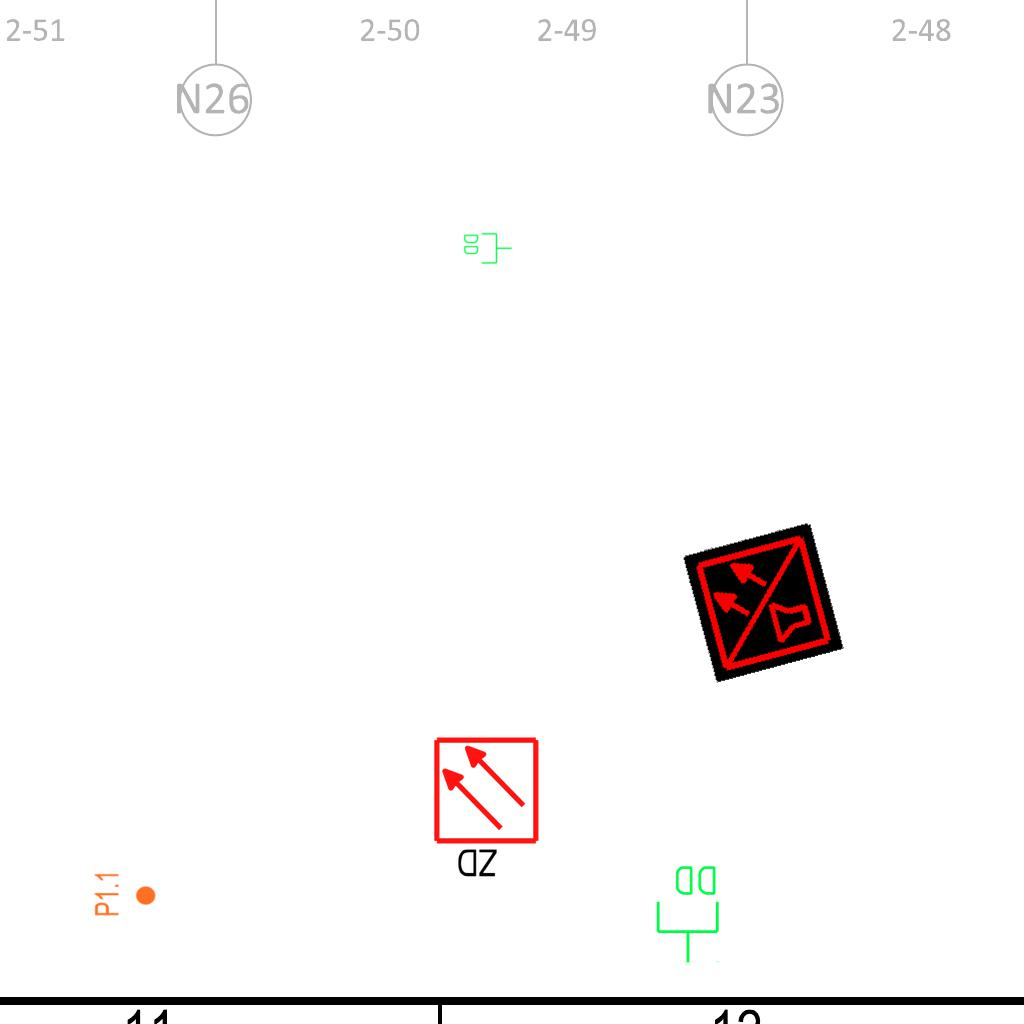Datenanschluss_zweifach: (654, 862, 723, 965), (462, 231, 513, 265)
Downlight_LED_Einbauleuchten_Flur: (93, 871, 157, 917)
OKW_Multisensormelder_(Kombination_optischer_Rauch-Kahlenmonoxid_Waerme-Melder): (682, 521, 844, 683)
ZD_Melder_in_Zwischendecke_mit_Revisionsoeffnung_mind_40_x_40_cm: (431, 735, 545, 884)
